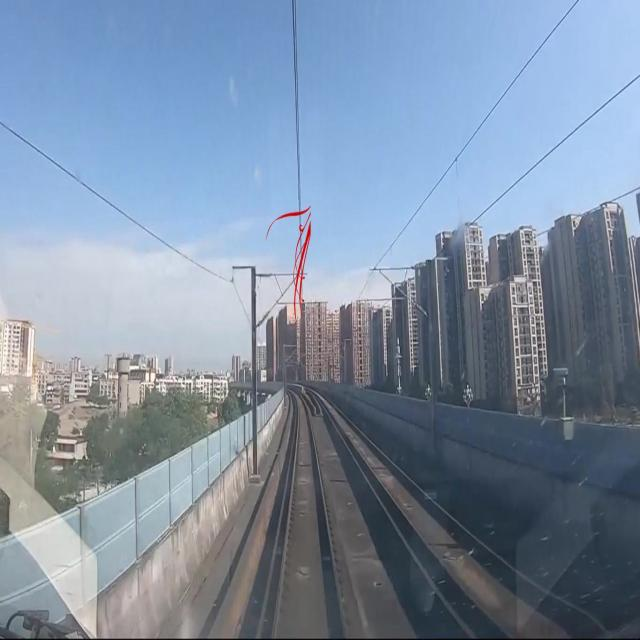floating object: (262, 202, 310, 320)
